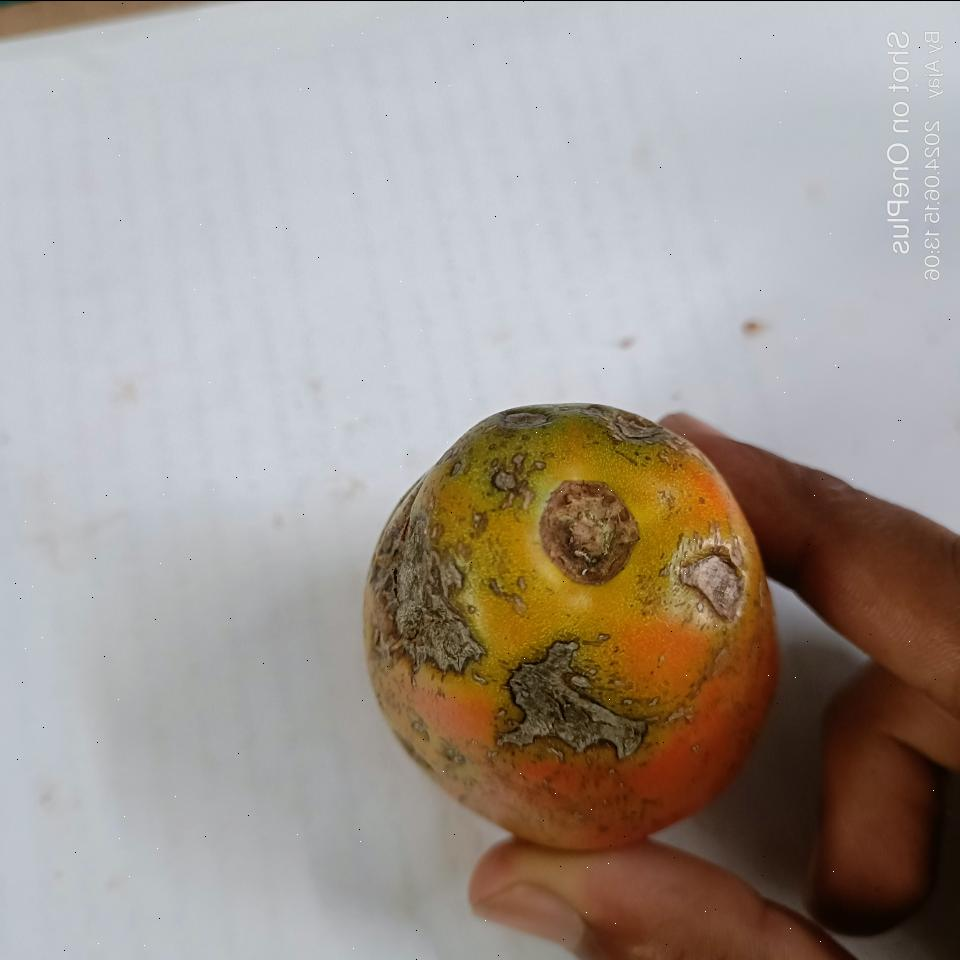Bacterial_Spot: (360, 471, 486, 677), (500, 634, 644, 768), (672, 524, 751, 622)
